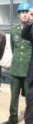boots: (1, 115, 18, 124), (0, 120, 9, 124)
hard-hat: (0, 0, 10, 15)
